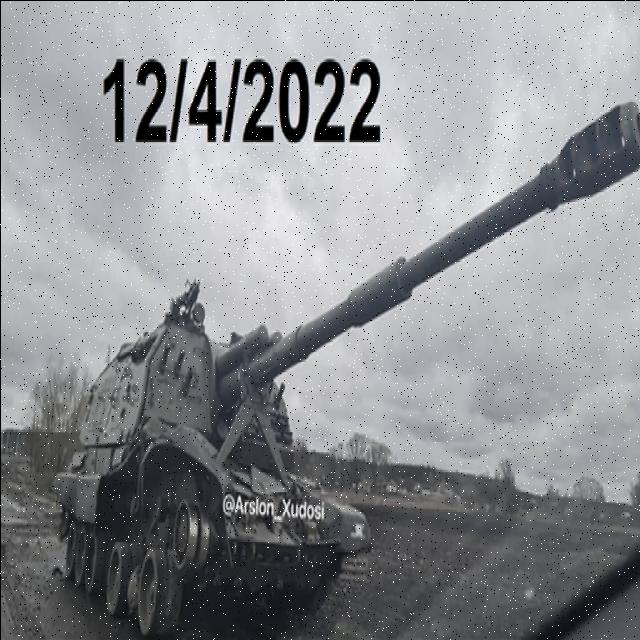ART: (50, 95, 638, 636)
